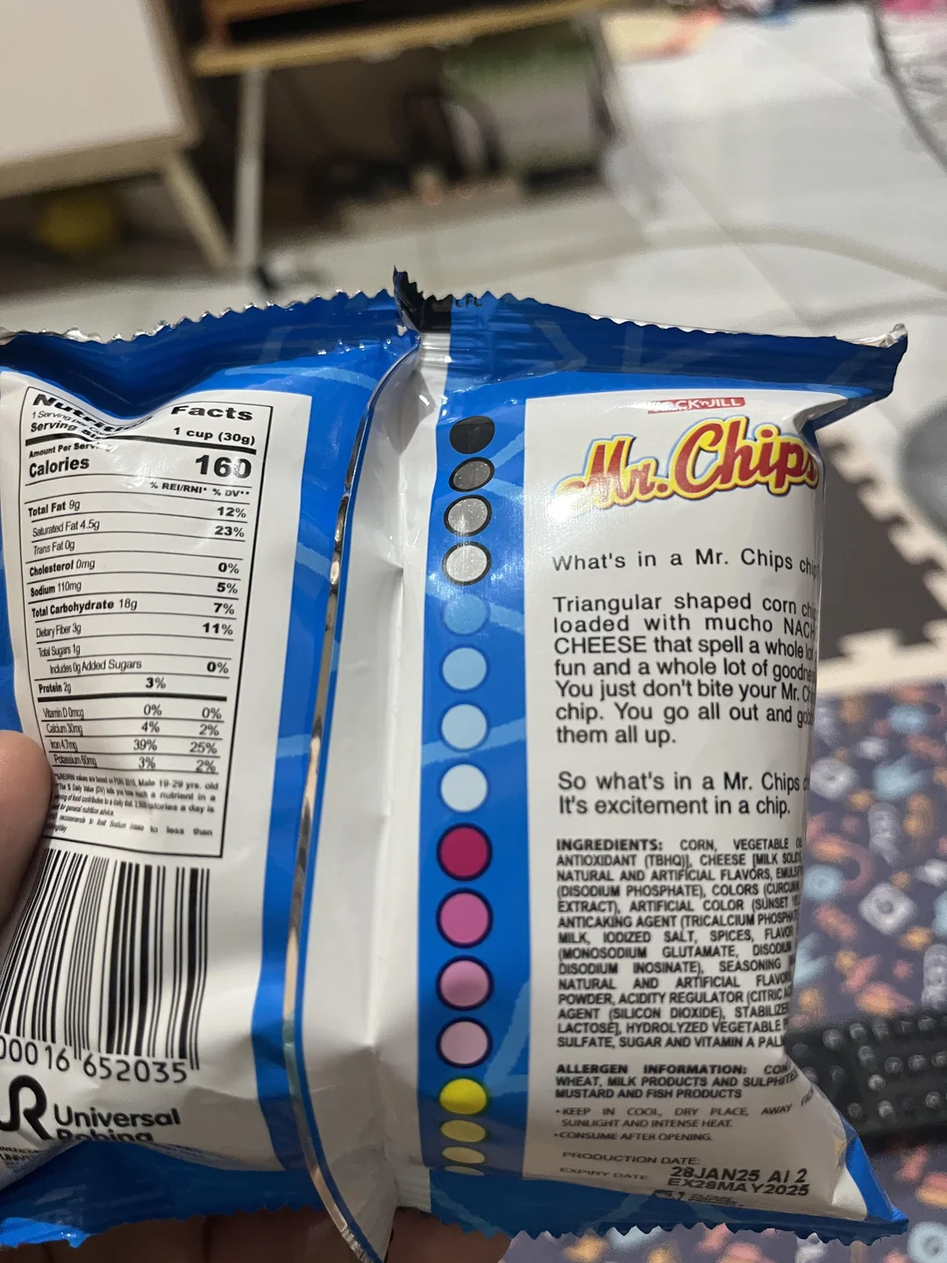non-toxic_waste: (25, 361, 842, 1207)
